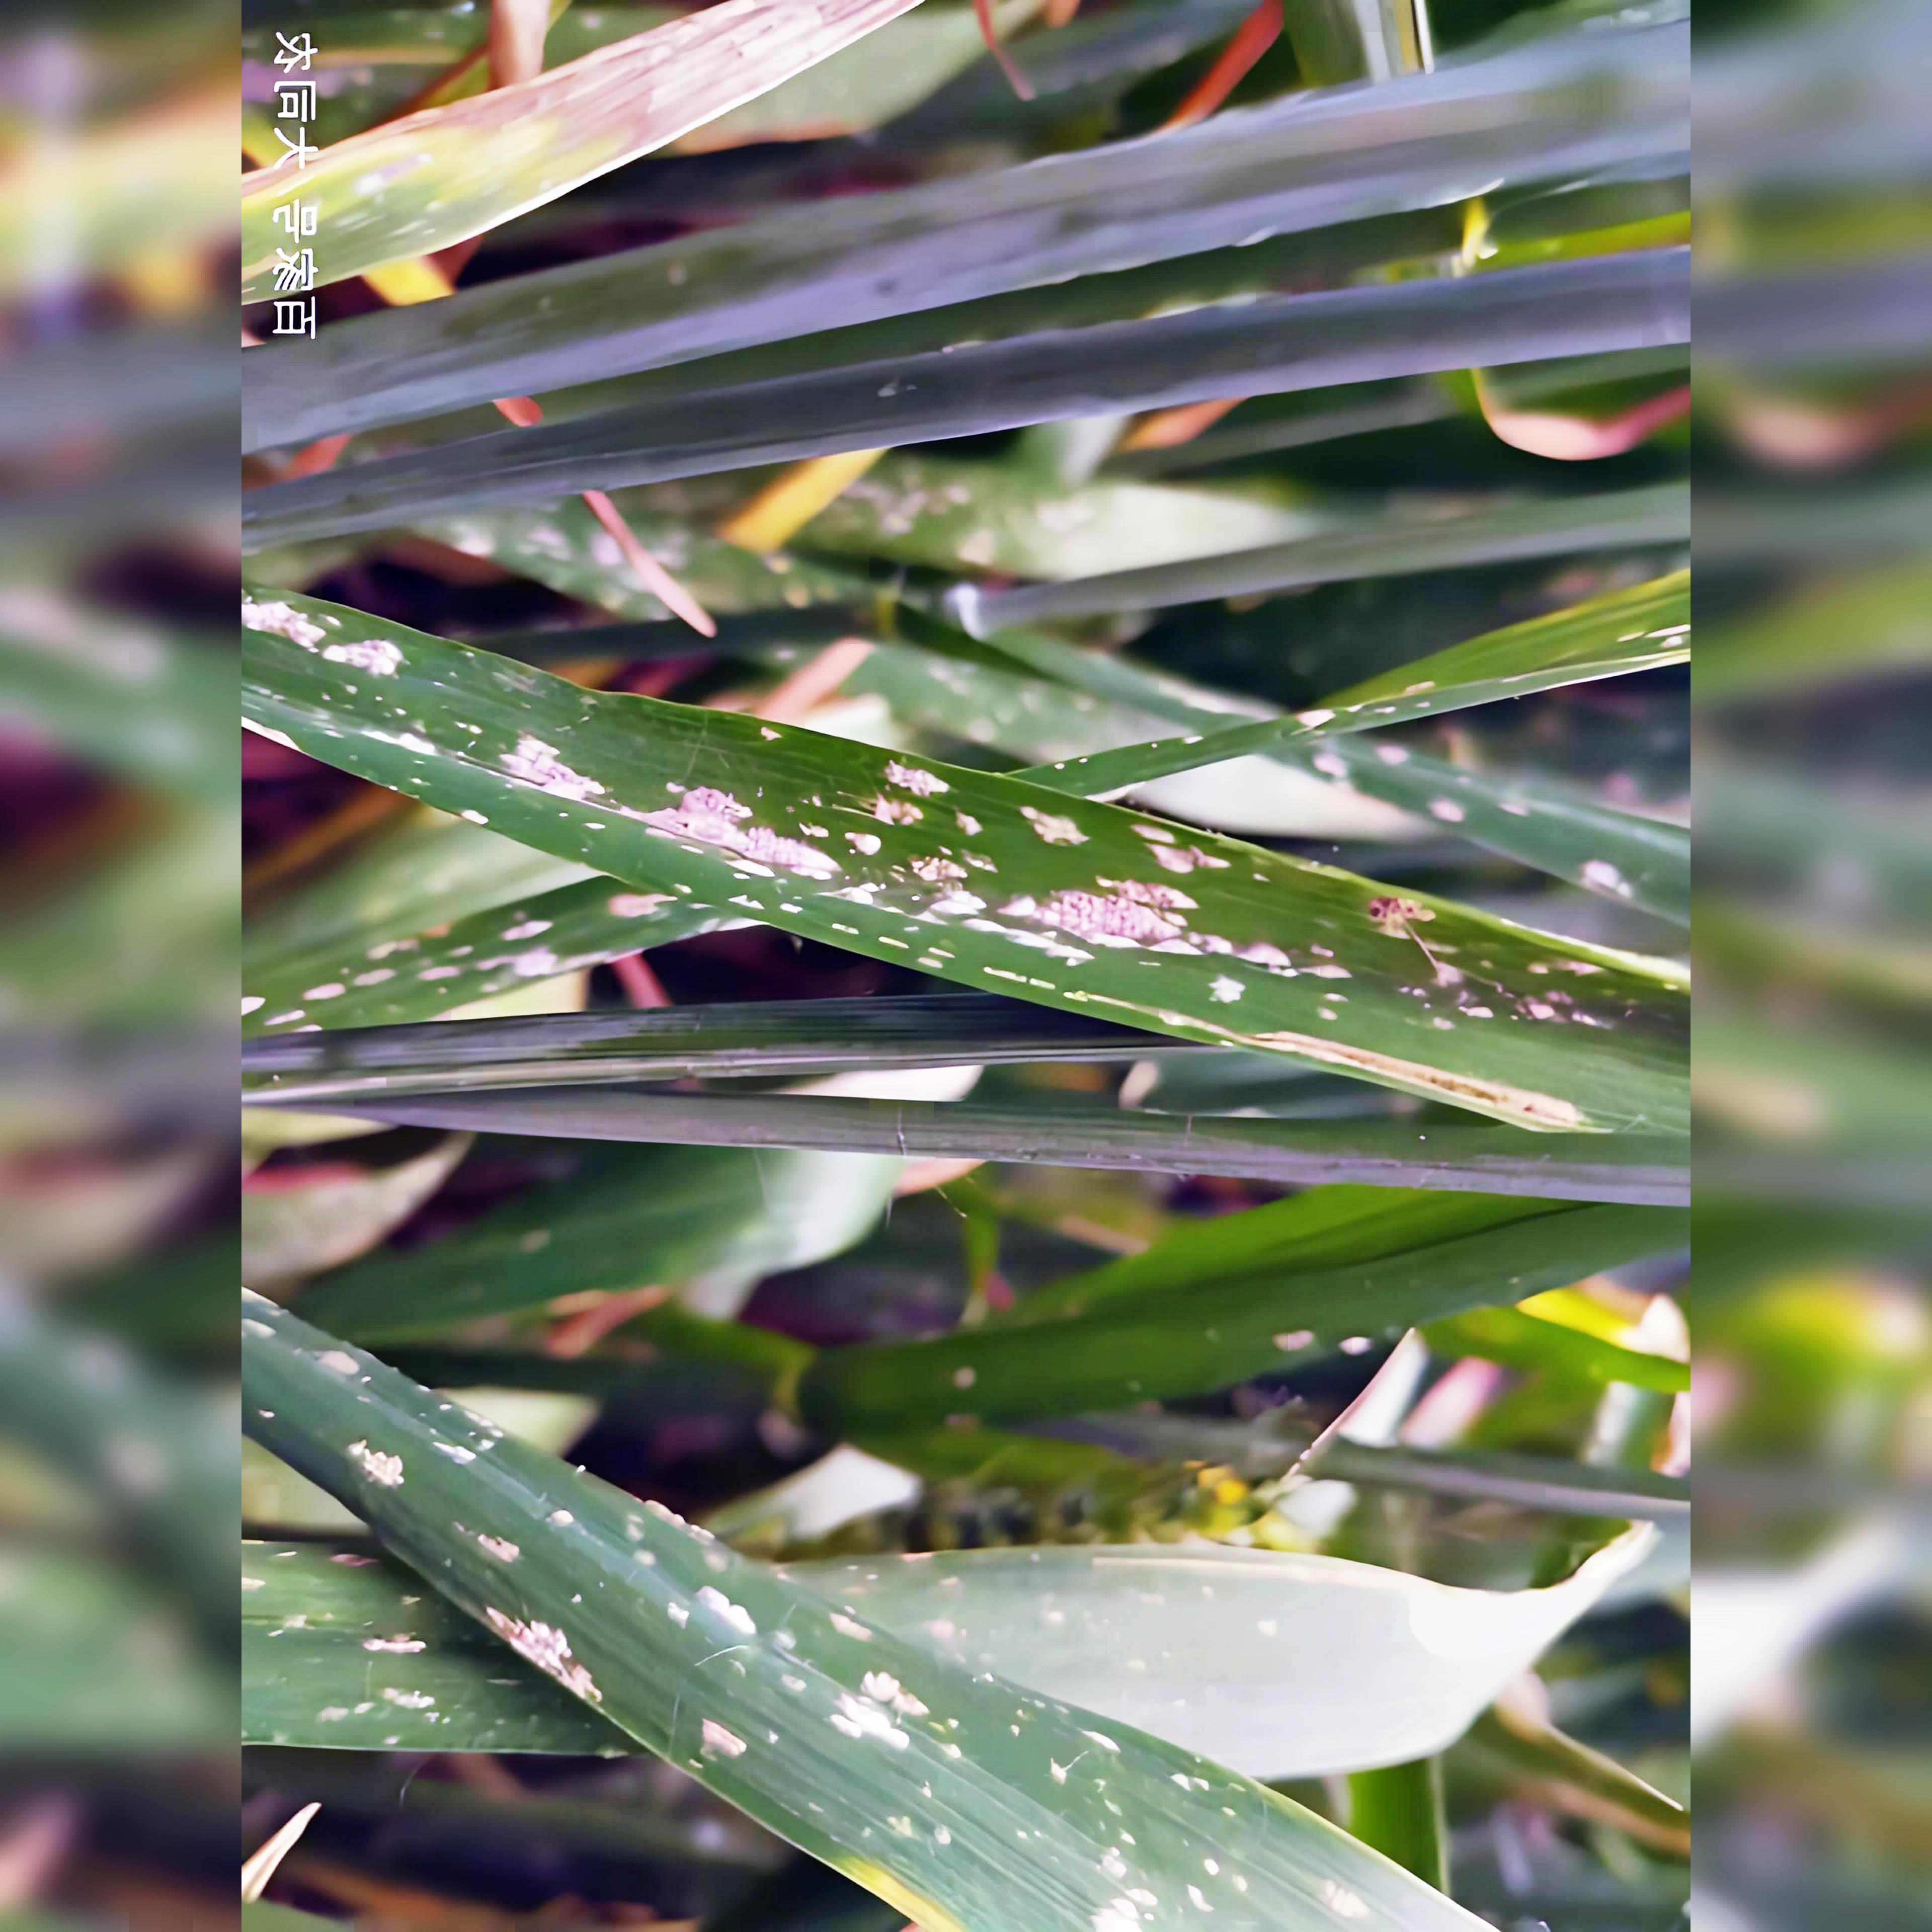Powdery Mildew: (313, 616, 1507, 1099)
